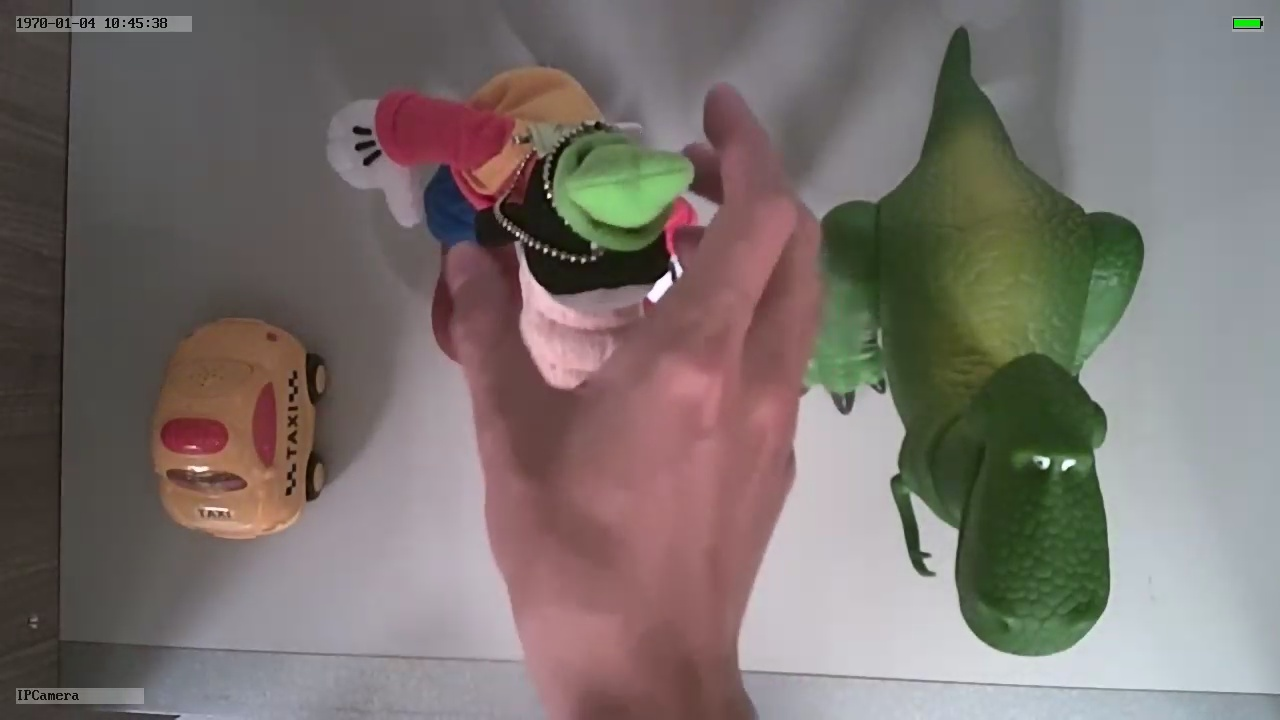car: (150, 314, 332, 542)
rex: (803, 139, 1145, 655)
